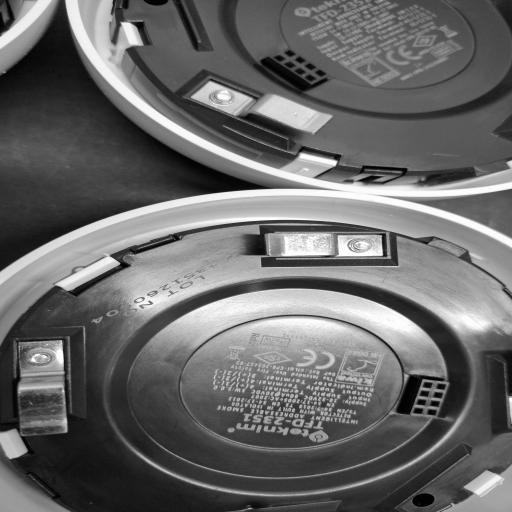konnektor: (392, 366, 452, 431), (256, 46, 337, 94)
yaysiz: (180, 82, 346, 148), (1, 329, 92, 449), (230, 222, 408, 270)
